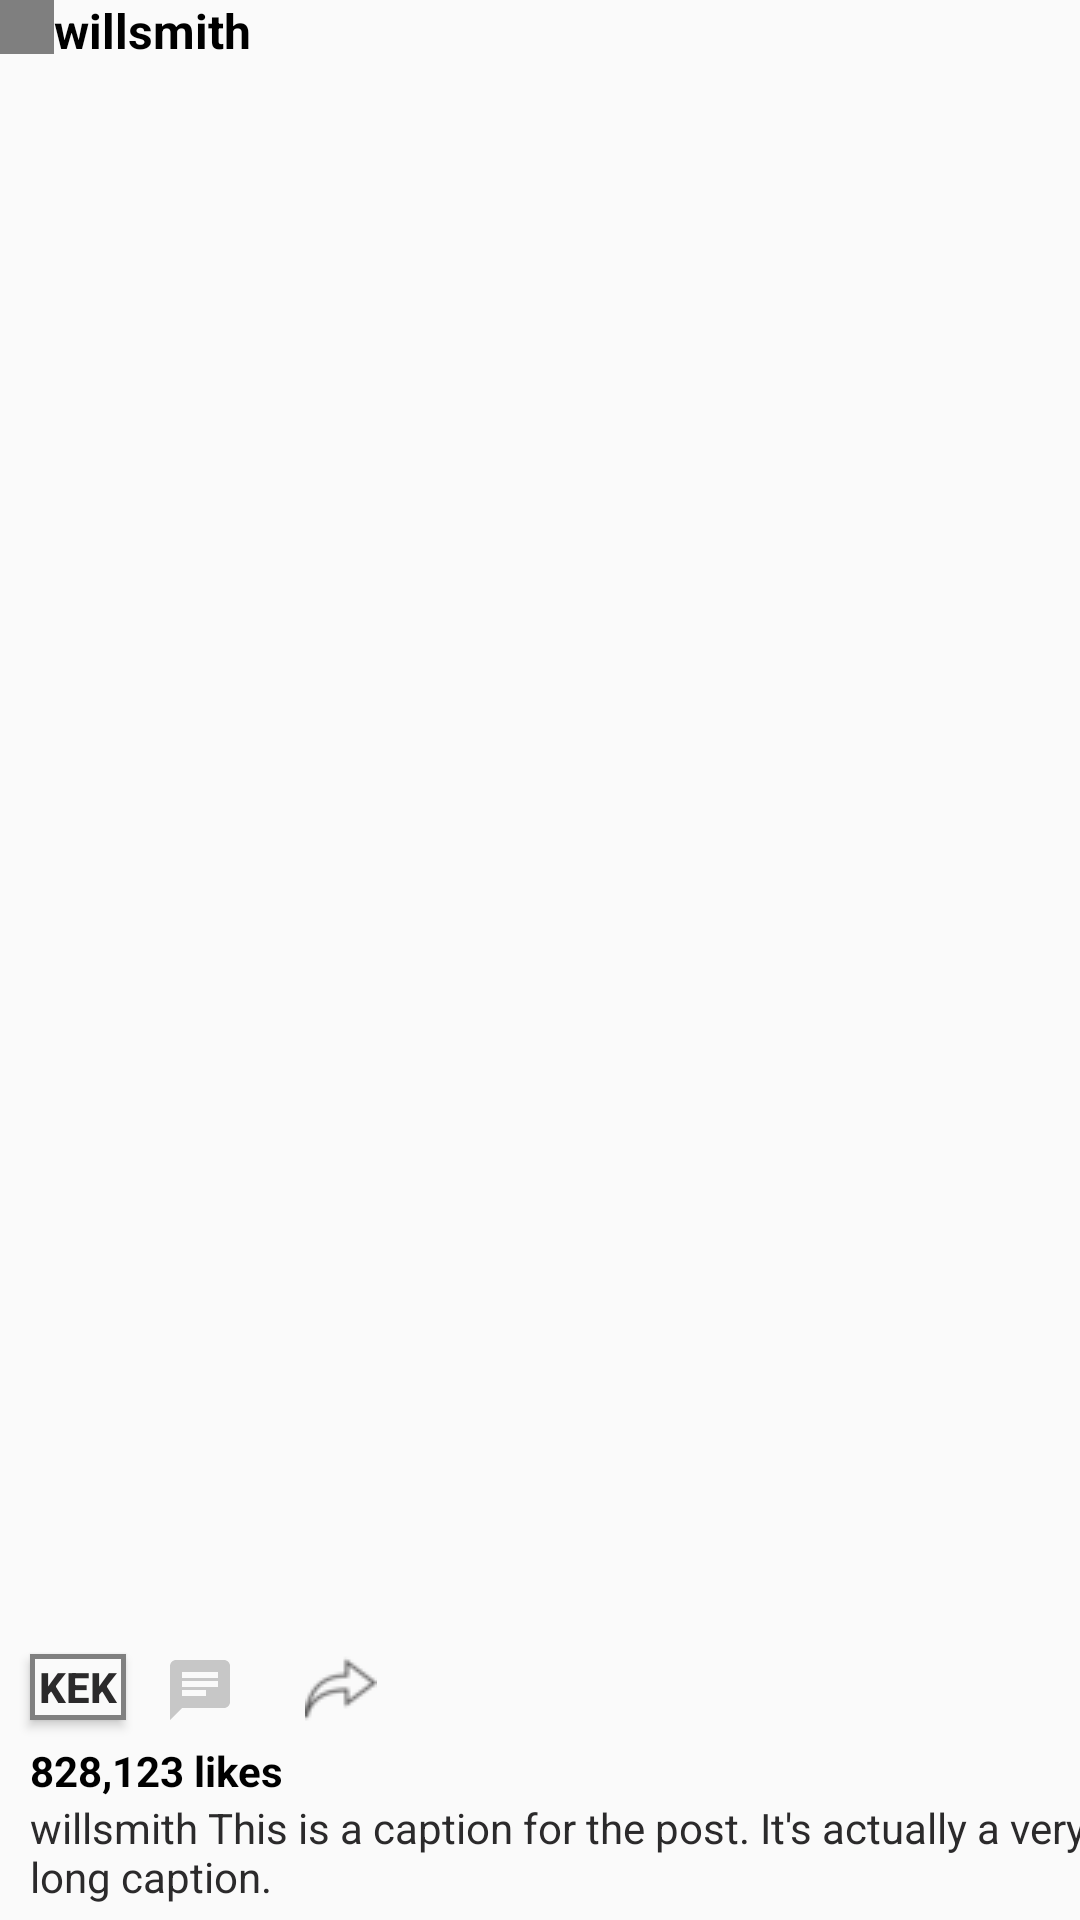

Icons on this 1080x1920 Android screen, each with its box as box(x1, y1, x2, y2):
chat: box(170, 1660, 230, 1720)
repost: box(305, 1659, 377, 1719)
